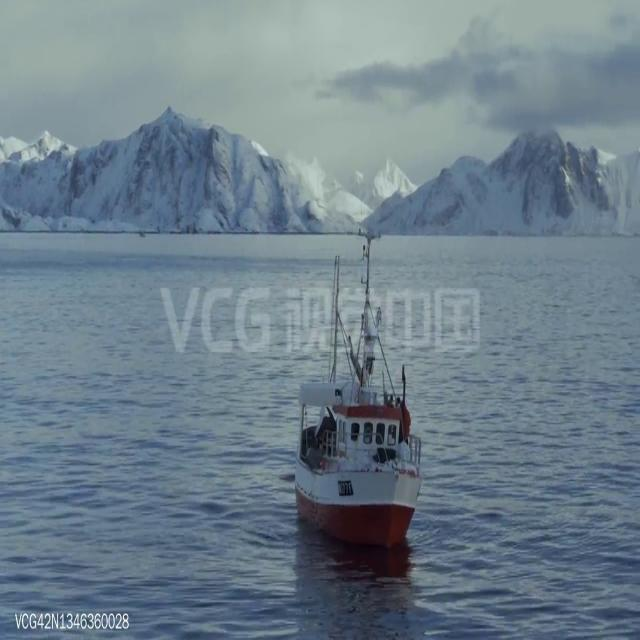houseboat: (293, 243, 427, 547)
